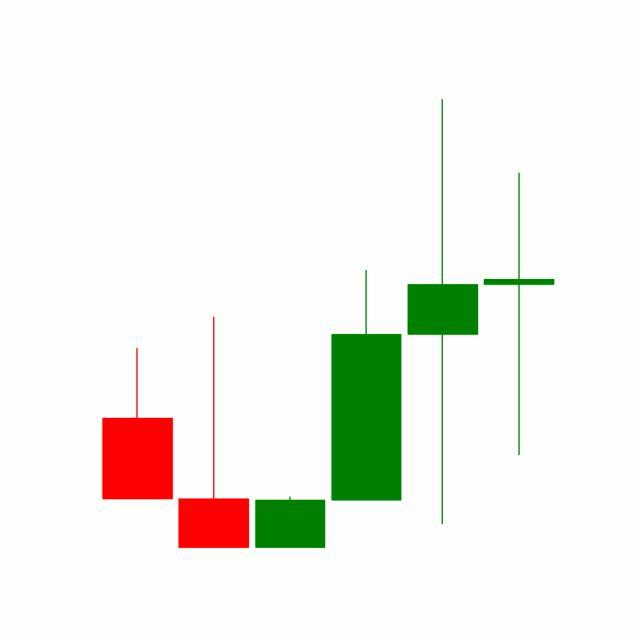Spinning Top: (404, 95, 482, 530)
